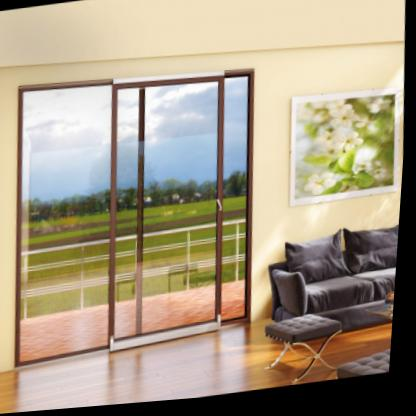Window: (19, 72, 255, 370)
Wooden floor: (0, 326, 397, 415)
